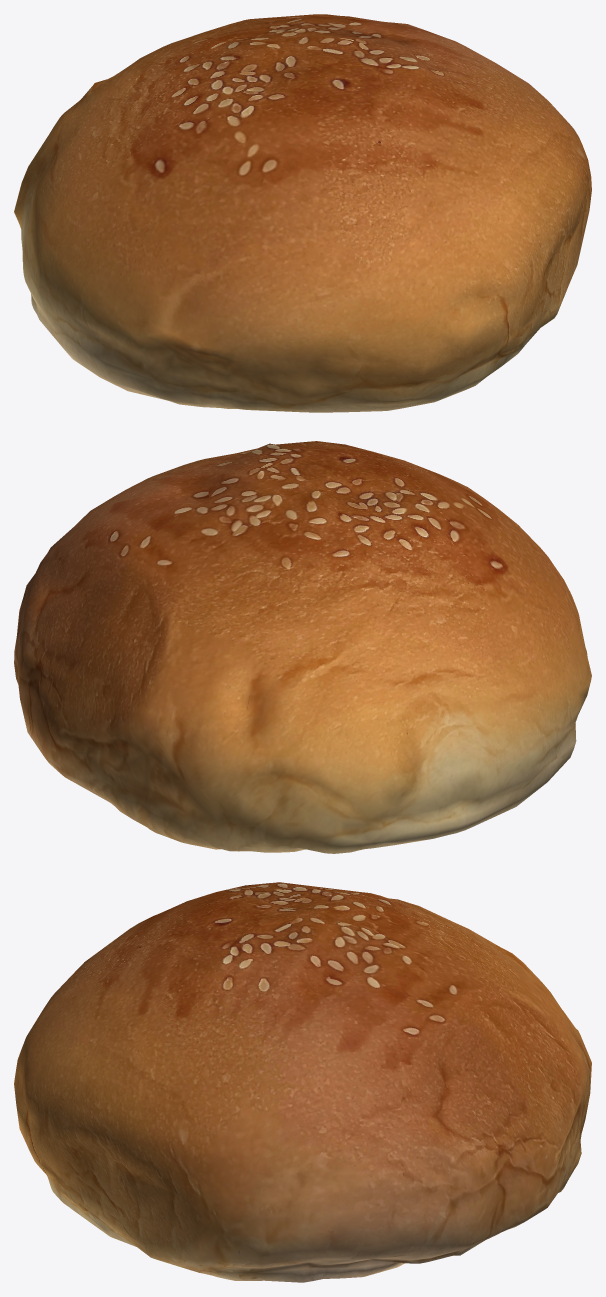
Rendered from bread.obj.
The picture shows the model from 3 angles, top to bottom: view 1: azimuth 30°, elevation 25°; view 2: azimuth 150°, elevation 25°; view 3: azimuth 270°, elevation 25°; orthographic projection.
Parts seen in each view (by area): view 1: Burger_Bread; view 2: Burger_Bread; view 3: Burger_Bread.
Part boxes in pixels (x1,y1,x2,y2): Burger_Bread: (14,14,591,412); Burger_Bread: (14,441,591,853); Burger_Bread: (14,882,591,1282).
Size of the model in its own units: 0.4369 by 0.228 by 0.4361.
1 material, 1 textured.
